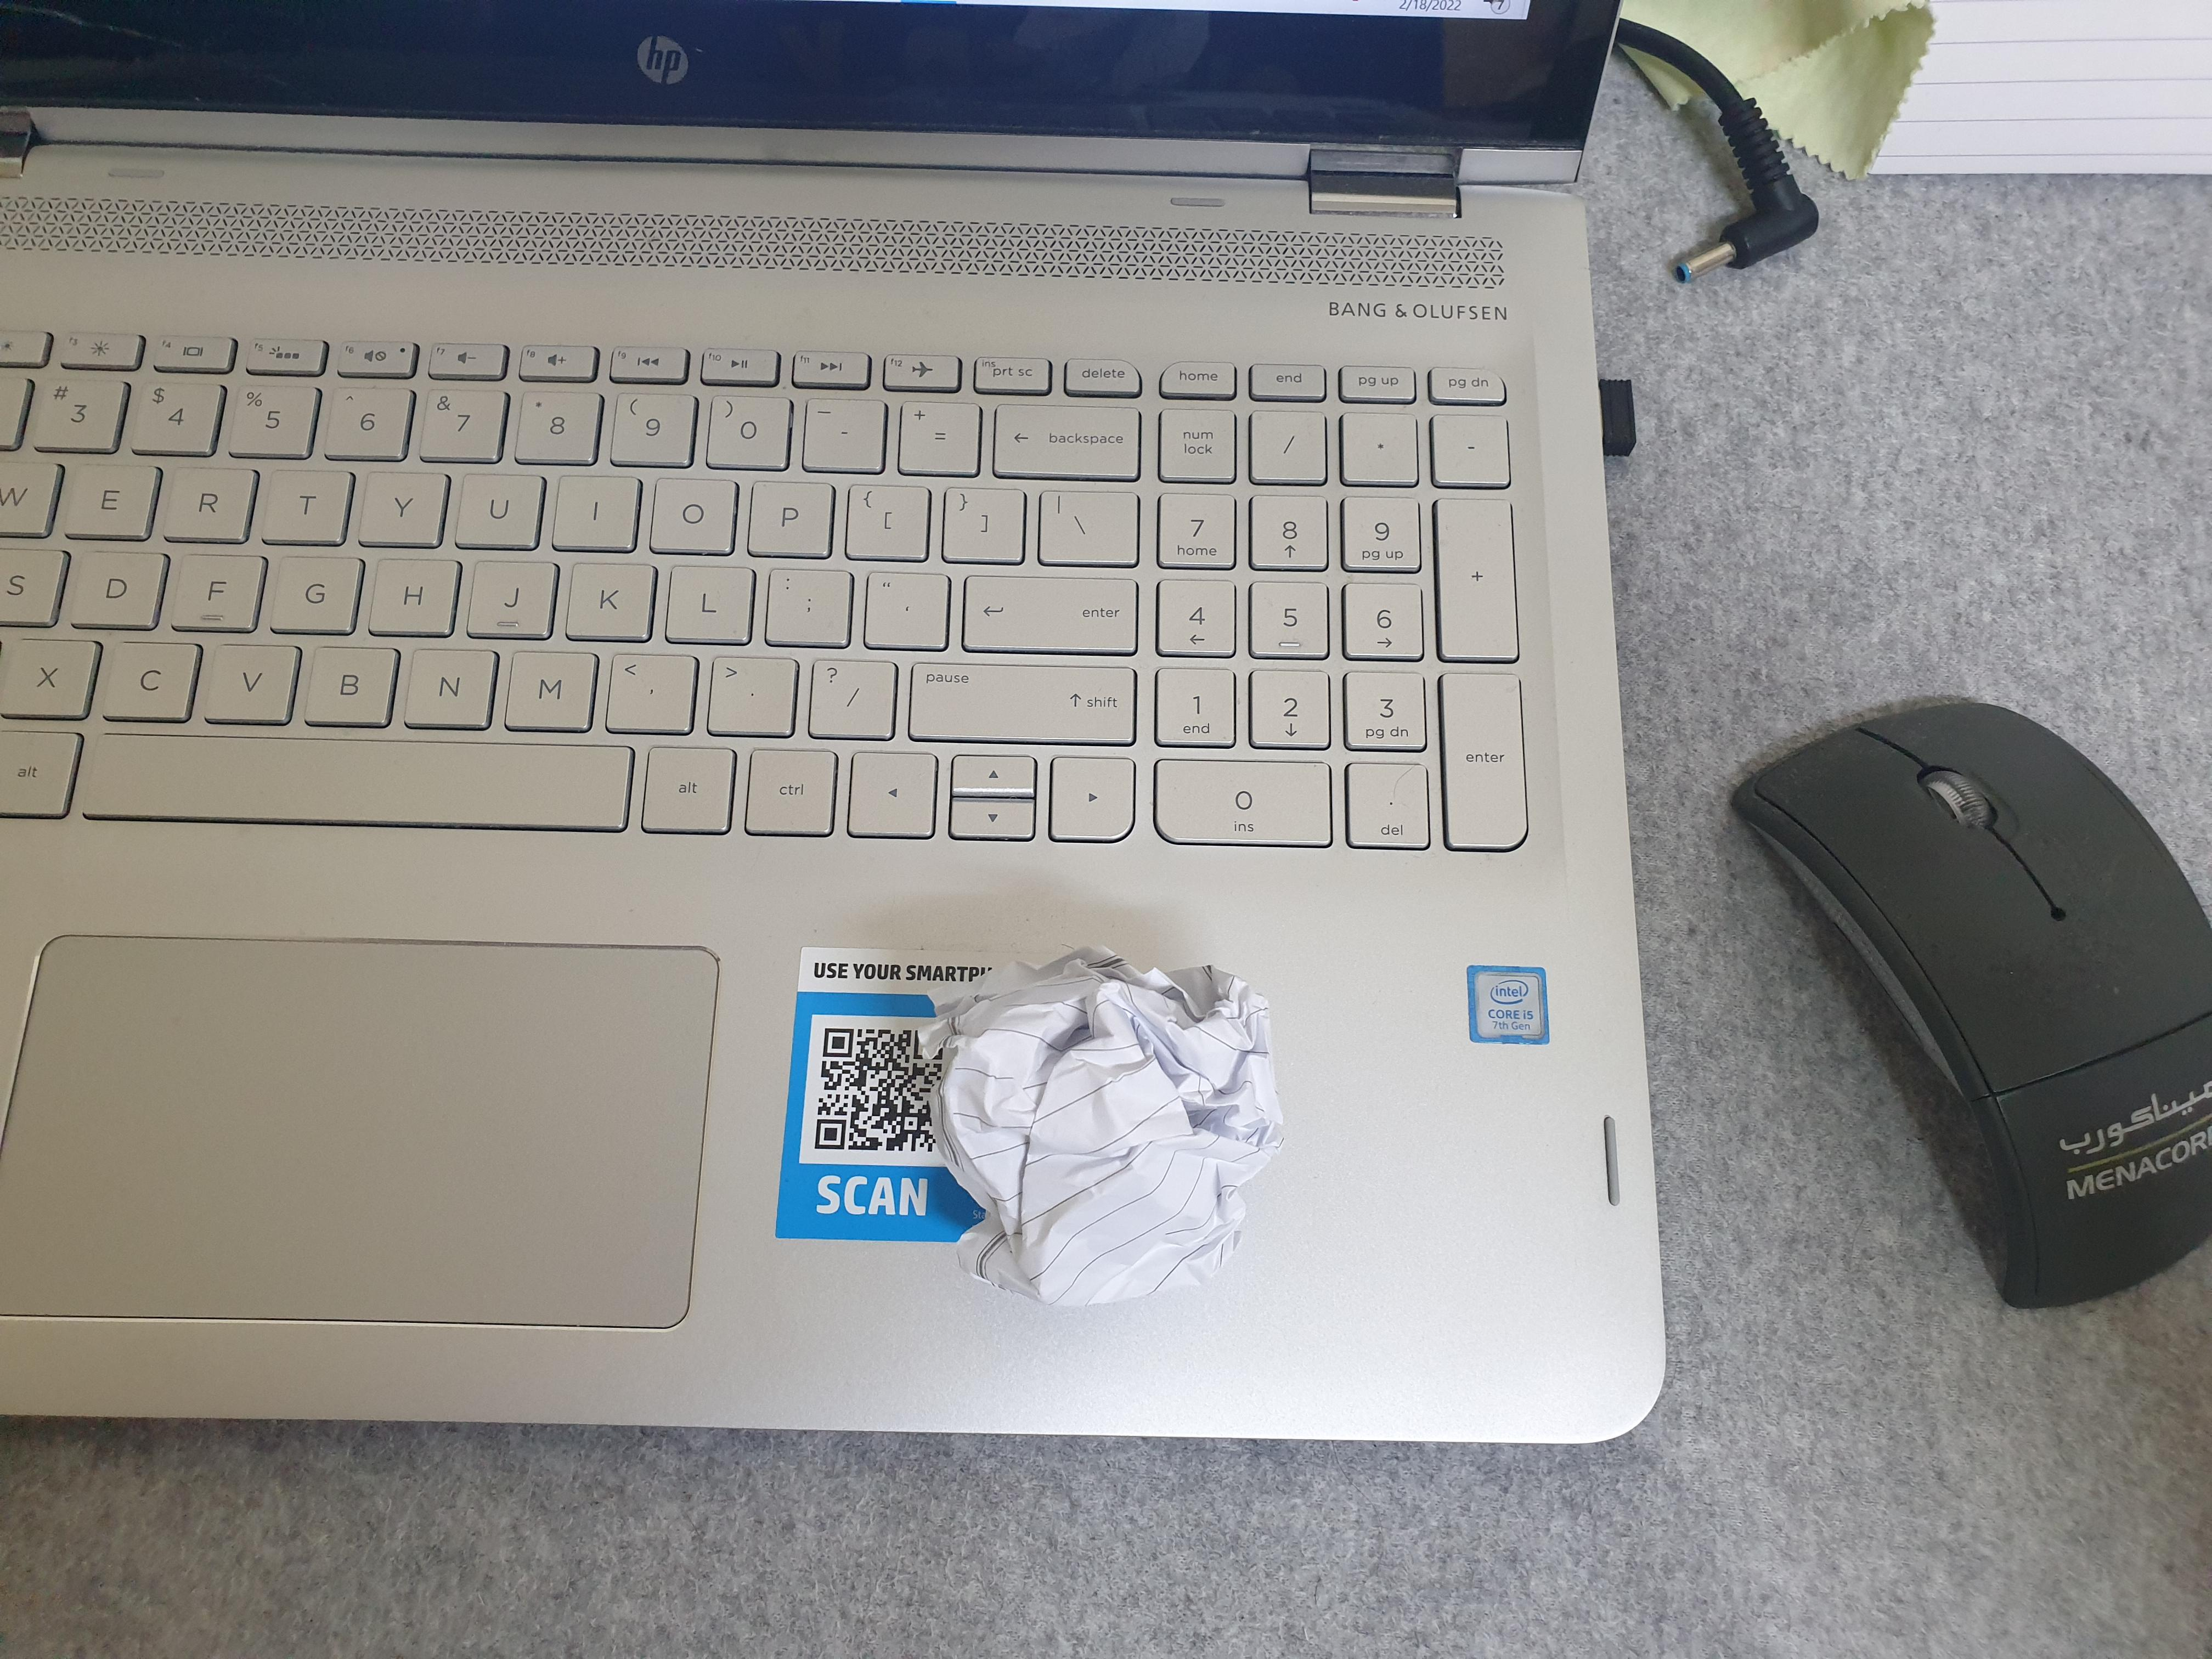Paper: (881, 925, 1312, 1321)
